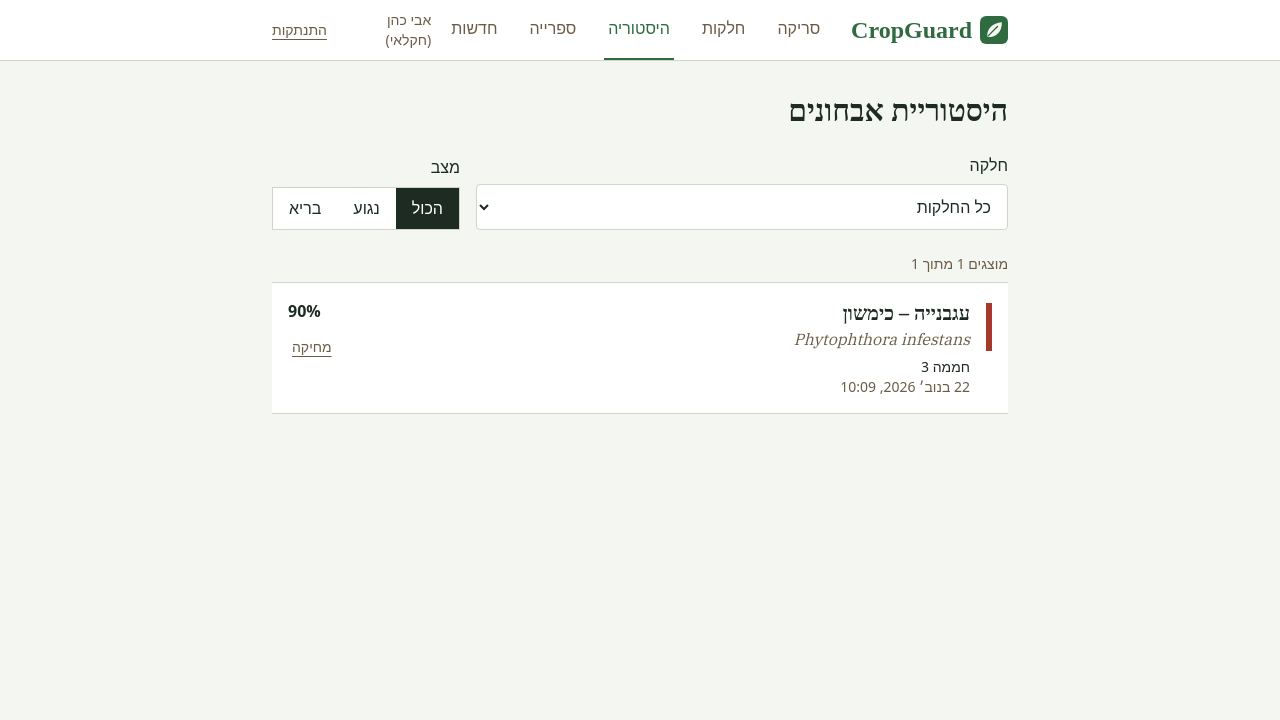
Test: history page › deleting a diagnosis › cancels without deleting and returns focus to the delete button
Click the button with aria-label "מחיקת האבחון" at (312, 347), box left=288, top=333, right=336, bottom=361
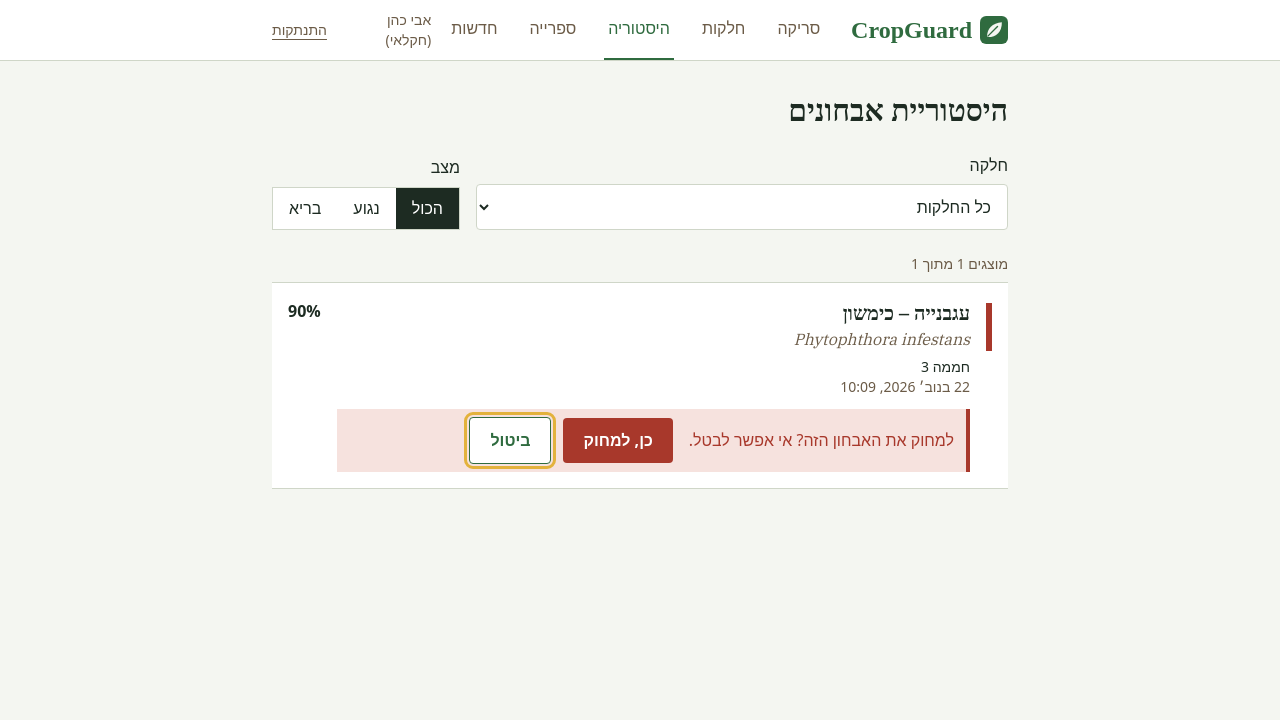
Click the button "ביטול" at (510, 441), box left=469, top=417, right=552, bottom=464
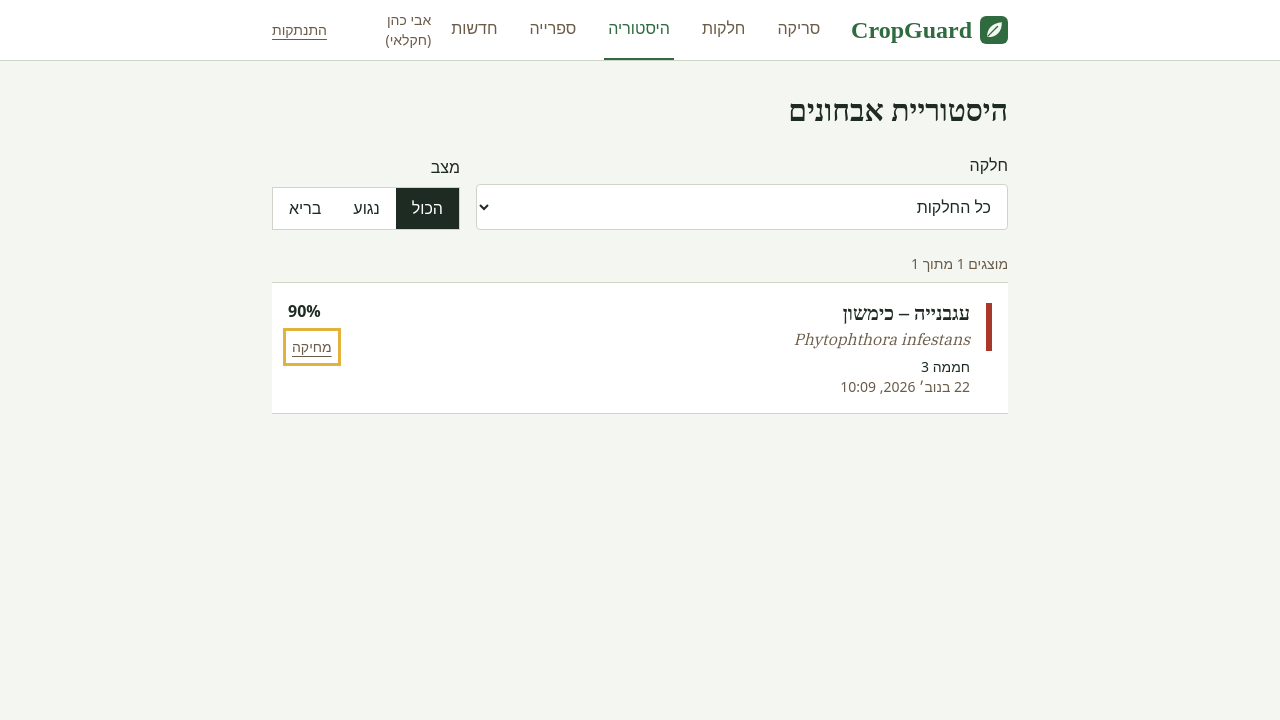
Result: the text "למחוק" is gone
